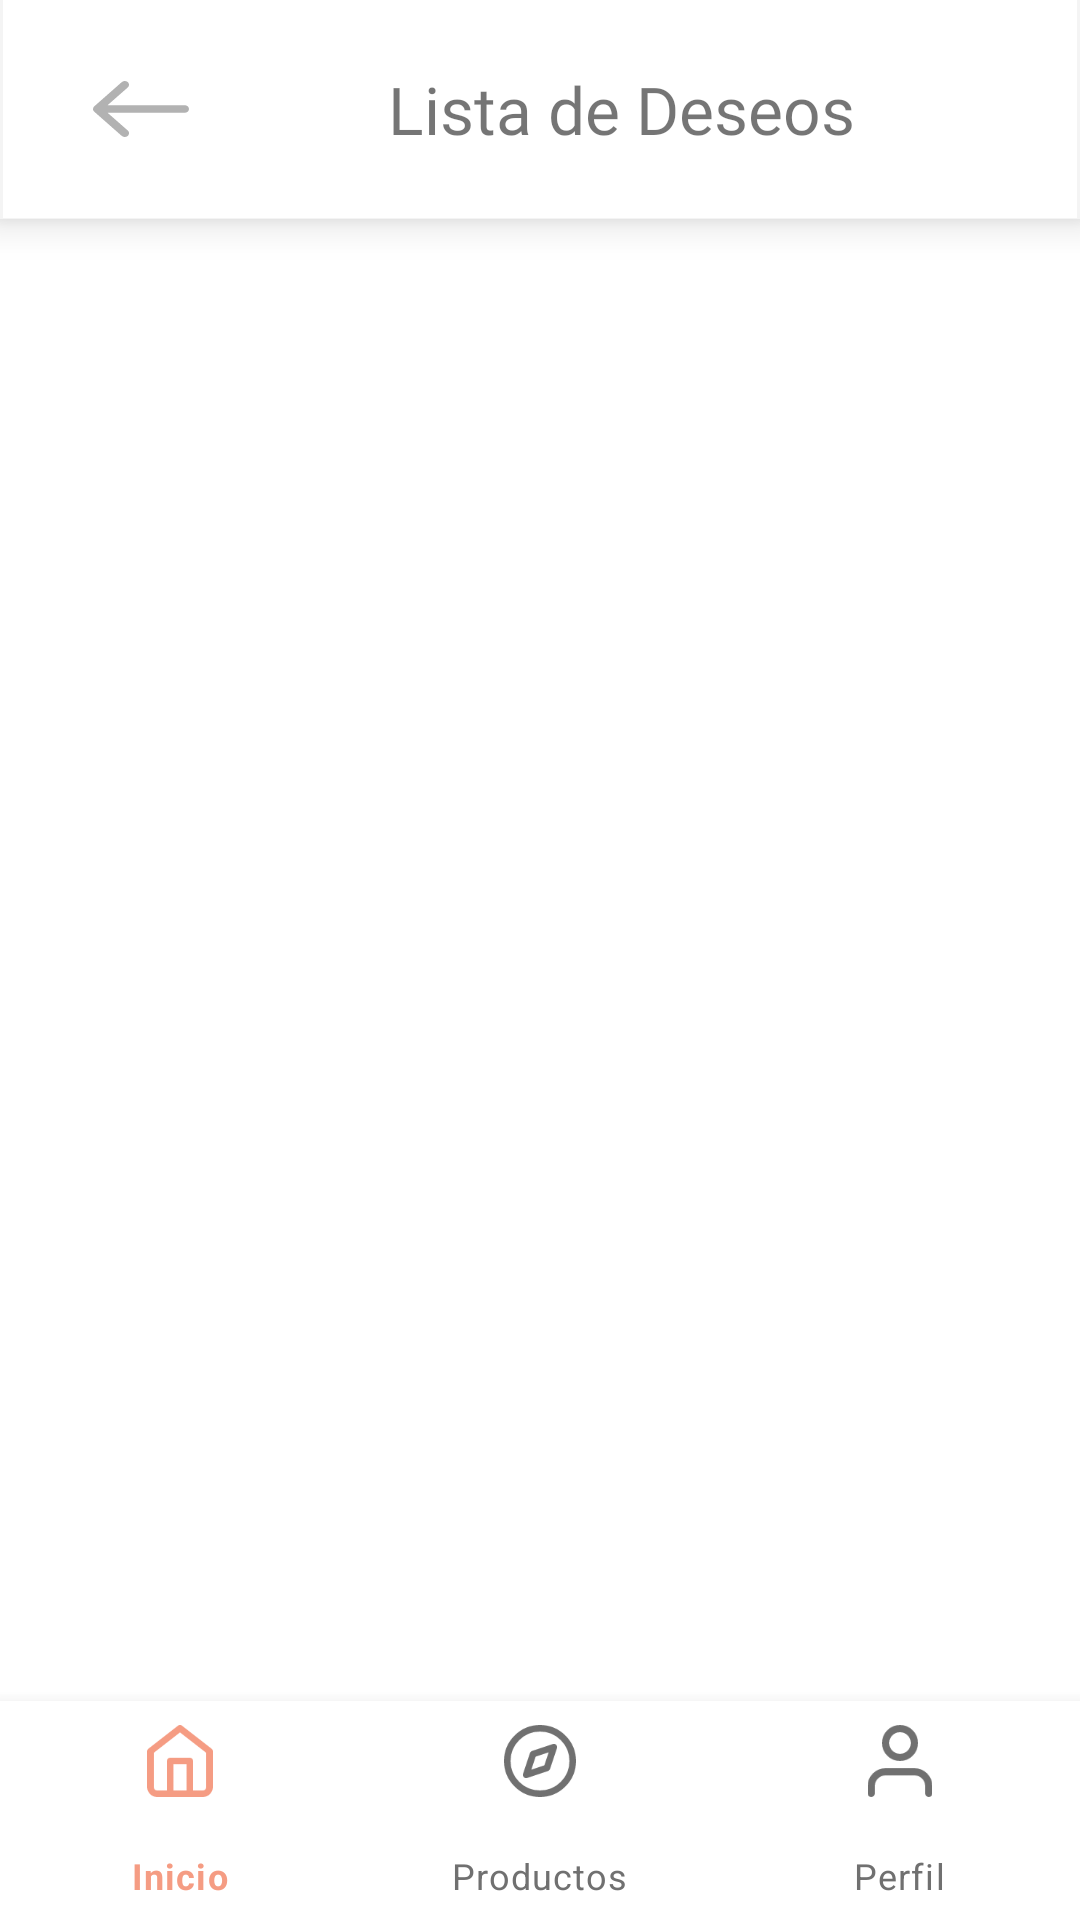

Named icons in this screenshot (1080w x 1920h) and their centers, (x=x, y=y):
back: (x=141, y=109)
